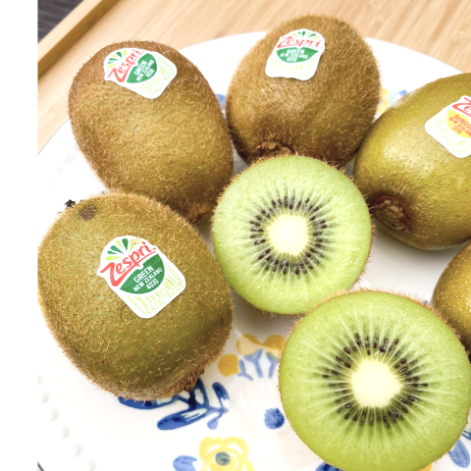kiwi: (28, 176, 257, 399), (69, 21, 230, 233), (215, 10, 397, 176)
